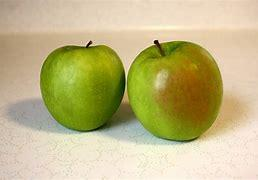apple: (120, 39, 228, 145), (40, 36, 128, 128)
